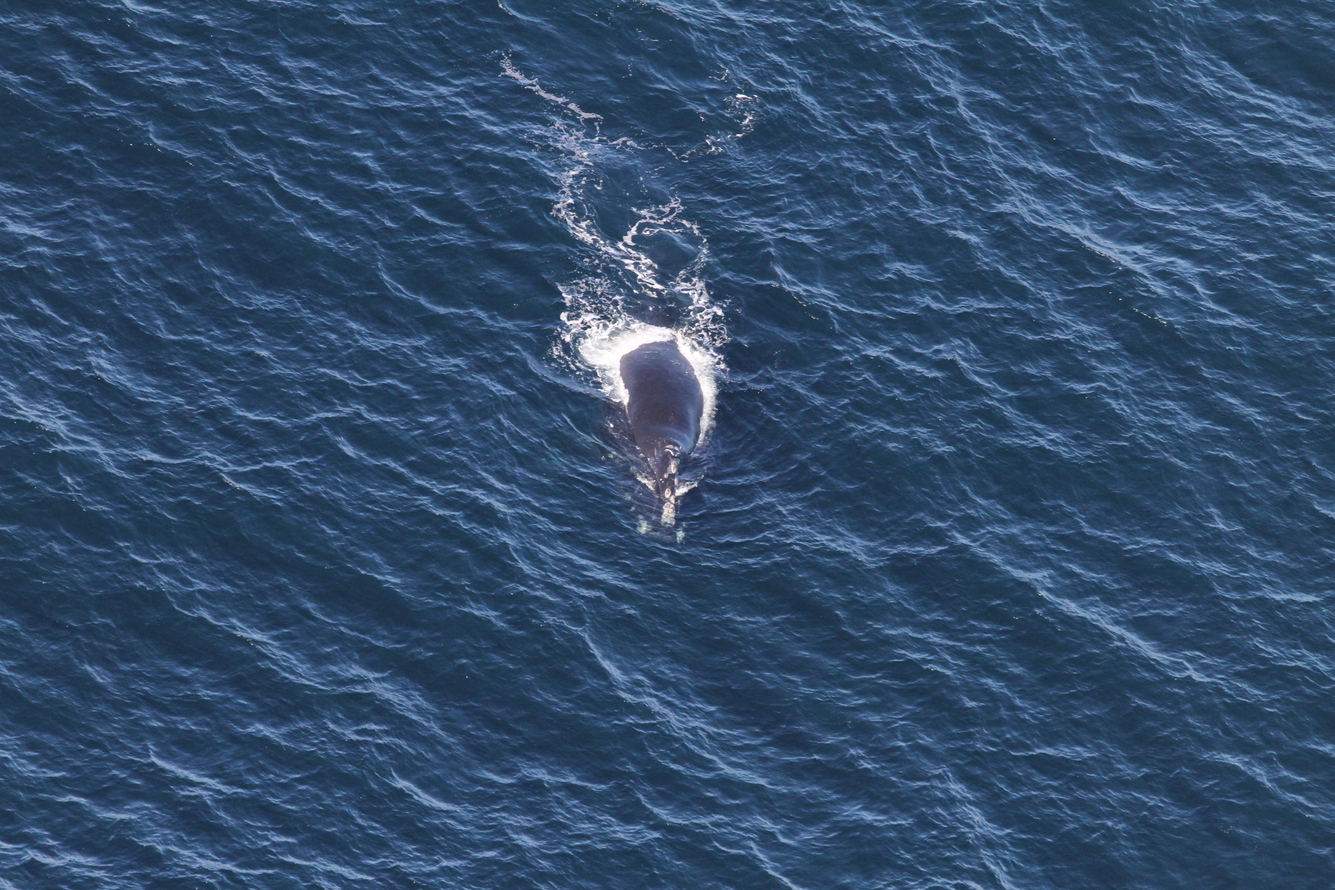whale: (547, 244, 723, 554)
